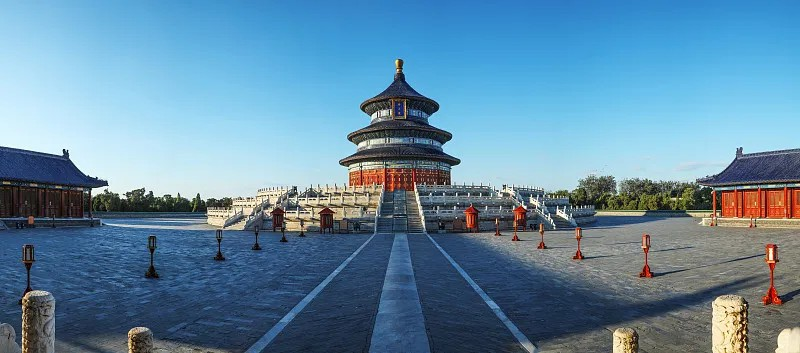Heaven: (339, 59, 461, 190)
